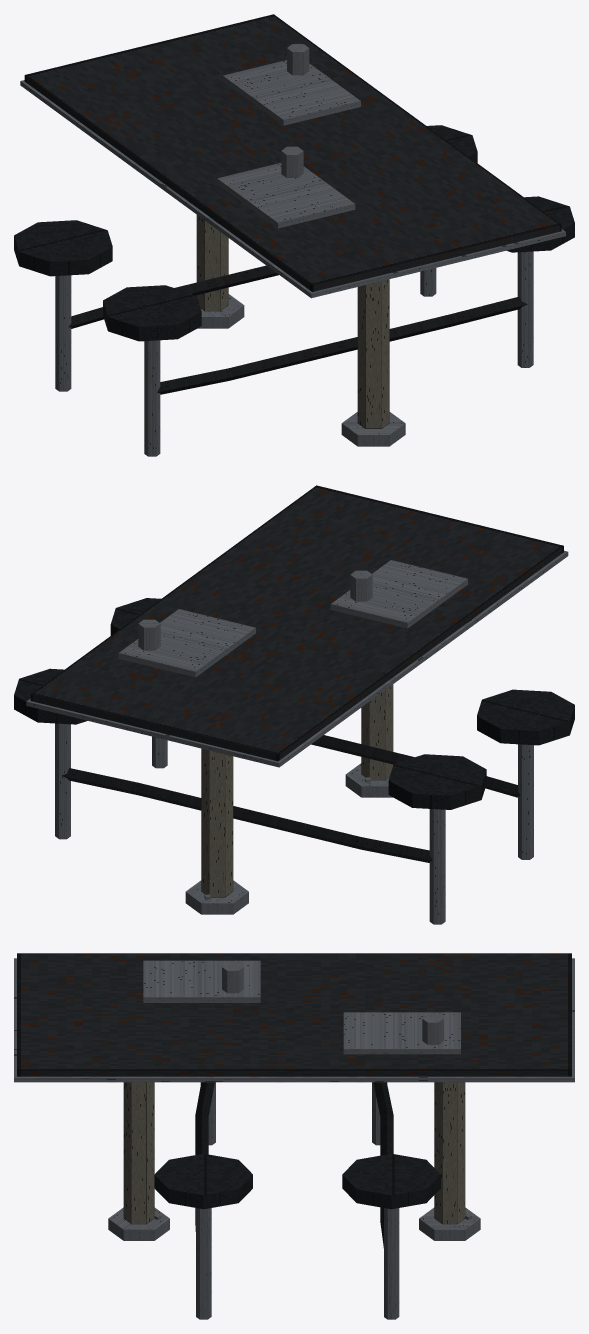
Rendered from mess_table_habitation_worn.glb.
The picture shows the model from 3 angles, top to bottom: view 1: azimuth 30°, elevation 25°; view 2: azimuth 150°, elevation 25°; view 3: azimuth 270°, elevation 25°; orthographic projection. The views are drawn at different scales.
Parts seen in each view (by area): view 1: mess_table_habitation_worn; view 2: mess_table_habitation_worn; view 3: mess_table_habitation_worn.
Part boxes in pixels (x1,y1,x2,y2): mess_table_habitation_worn: (14, 14, 574, 456); mess_table_habitation_worn: (14, 485, 574, 924); mess_table_habitation_worn: (14, 953, 574, 1319).
Bounding box in the file's own units: 1.66 × 0.885 × 1.82.
4 materials, 4 textured.
